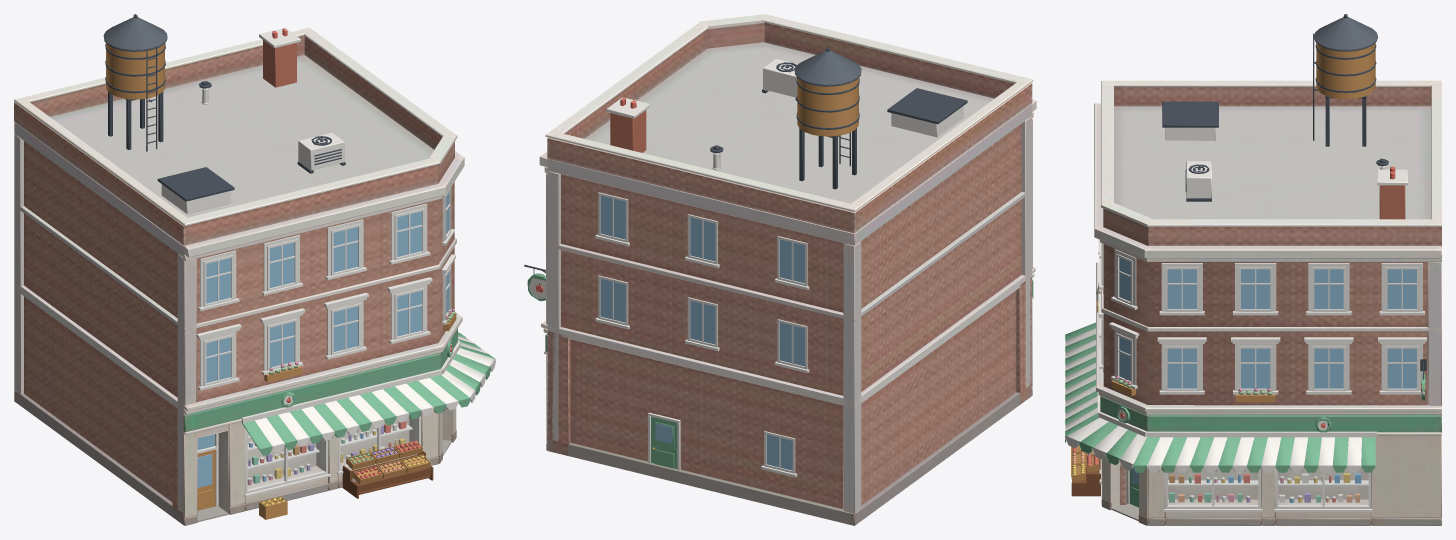
Rendered from corner-shop.glb.
The picture shows the model from 3 angles, left to right: view 1: azimuth 30°, elevation 25°; view 2: azimuth 150°, elevation 25°; view 3: azimuth 270°, elevation 25°; orthographic projection. The views are drawn at different scales.
Visible parts, largest first — view 1: corner-shop_body, corner-shop_awning, corner-shop_details, corner-shop_shop_glass, corner-shop_roof_items, corner-shop_display_goods; view 2: corner-shop_body, corner-shop_details, corner-shop_awning, corner-shop_roof_items; view 3: corner-shop_body, corner-shop_awning, corner-shop_details, corner-shop_shop_glass, corner-shop_roof_items, corner-shop_display_goods.
Part boxes in pixels (left/top/right/bottom): corner-shop_body: left=14, top=27, right=464, bottom=525; corner-shop_awning: left=161, top=28, right=495, bottom=506; corner-shop_details: left=105, top=14, right=456, bottom=521; corner-shop_shop_glass: left=248, top=417, right=417, bottom=489; corner-shop_roof_items: left=103, top=17, right=296, bottom=87; corner-shop_display_goods: left=247, top=308, right=454, bottom=506; corner-shop_body: left=539, top=14, right=1036, bottom=525; corner-shop_details: left=524, top=47, right=967, bottom=470; corner-shop_awning: left=527, top=59, right=963, bottom=477; corner-shop_roof_items: left=610, top=50, right=861, bottom=152; corner-shop_body: left=1094, top=80, right=1441, bottom=525; corner-shop_awning: left=1065, top=127, right=1426, bottom=511; corner-shop_details: left=1071, top=14, right=1426, bottom=520; corner-shop_shop_glass: left=1168, top=468, right=1367, bottom=504; corner-shop_roof_items: left=1314, top=17, right=1405, bottom=219; corner-shop_display_goods: left=1072, top=286, right=1361, bottom=502.
Bounding box in the file's own units: 13.35 × 15.77 × 13.35.
21 materials, 1 textured.
